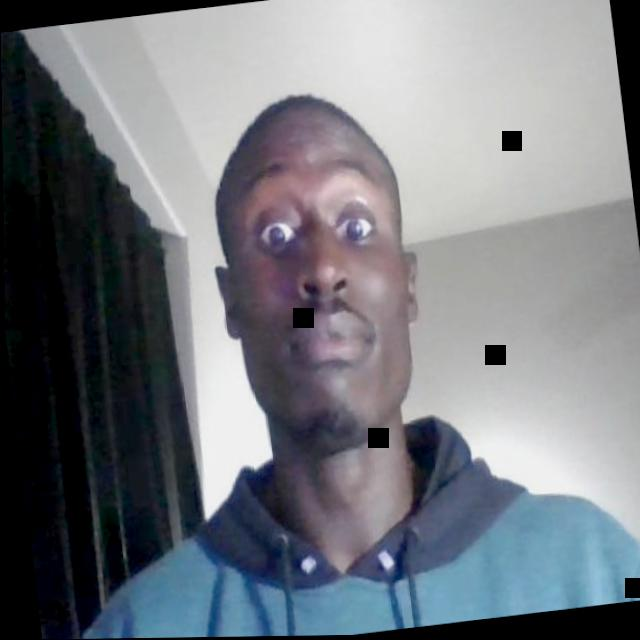NO-Mask: (211, 119, 426, 465)
